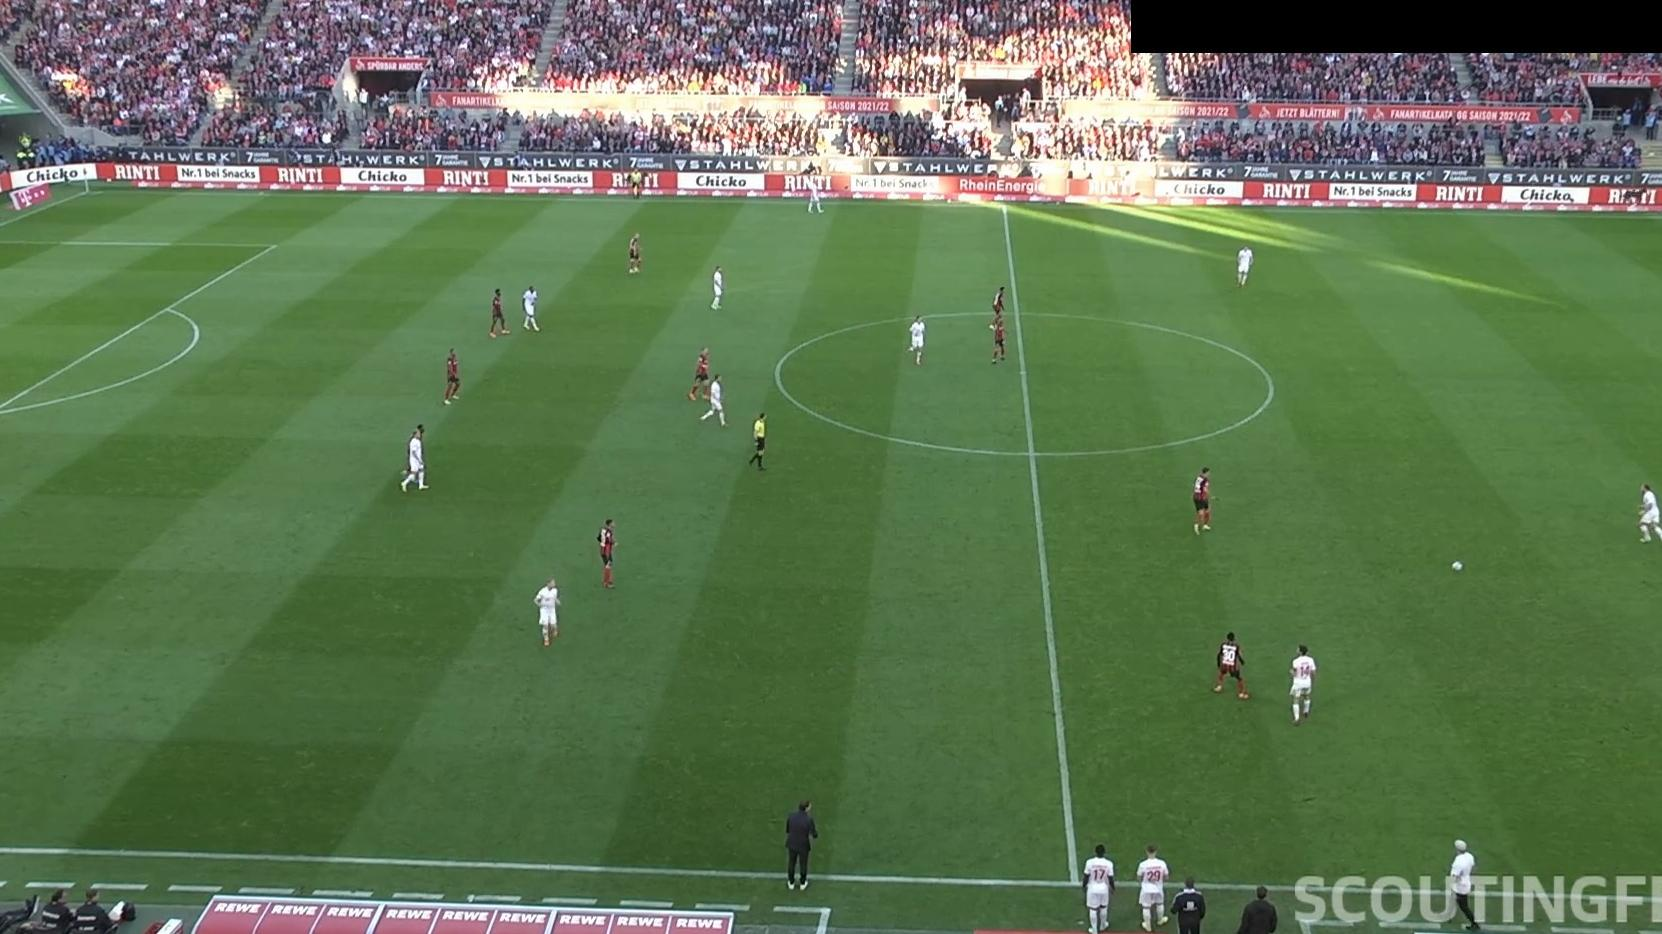ball: (1450, 558, 1465, 573)
